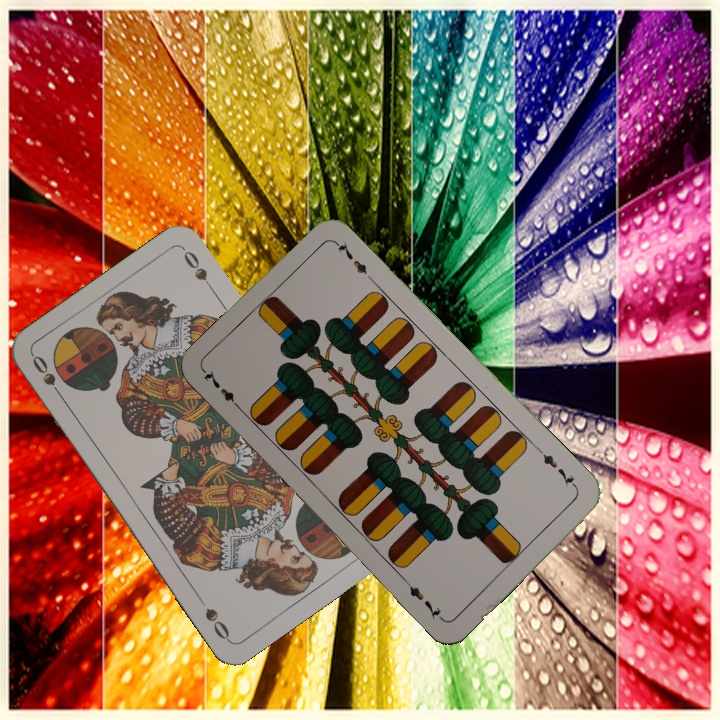E7: (534, 445, 580, 492), (200, 366, 245, 414)
SO: (28, 351, 68, 404)
